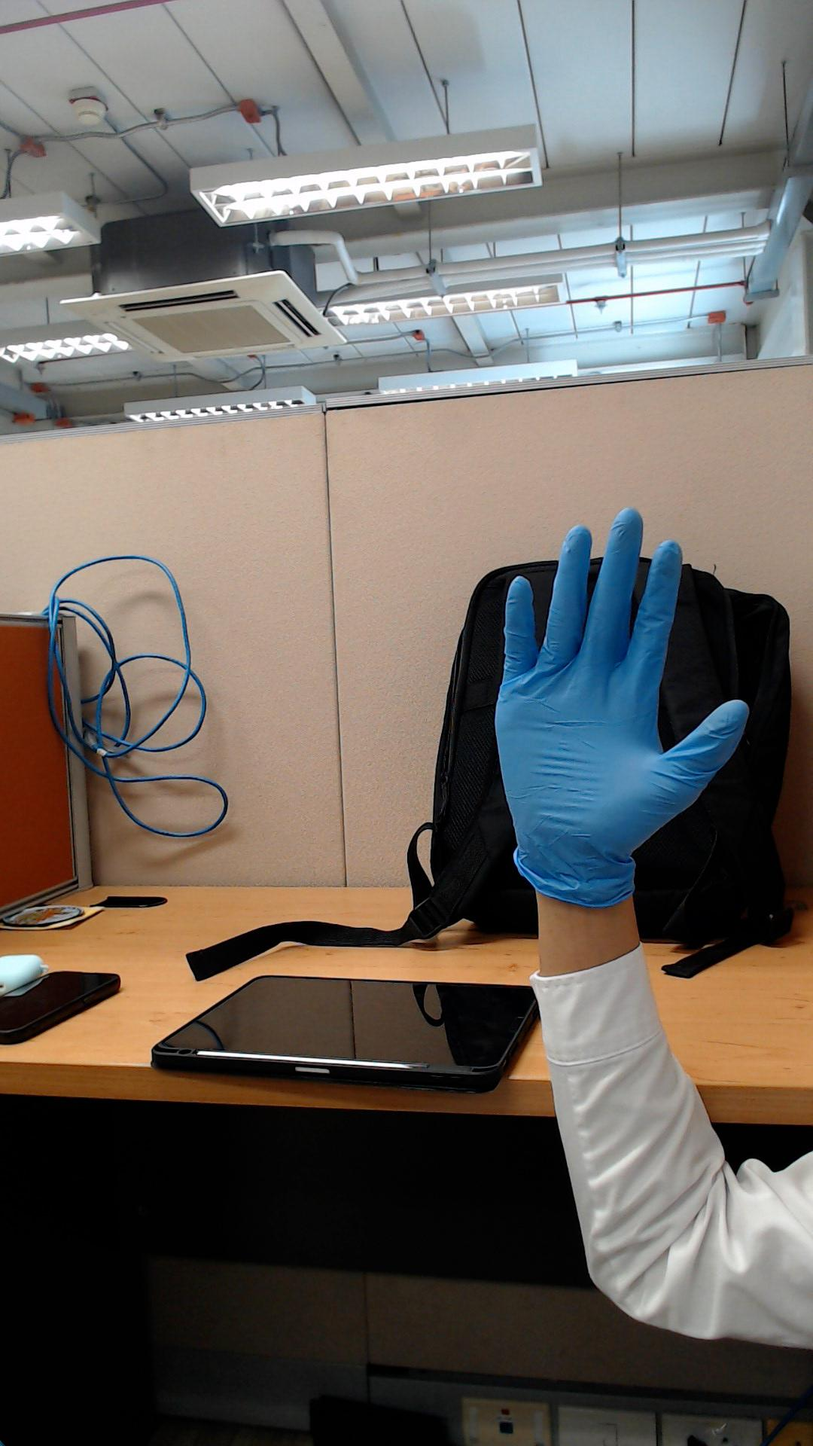gloves: (465, 483, 773, 836)
